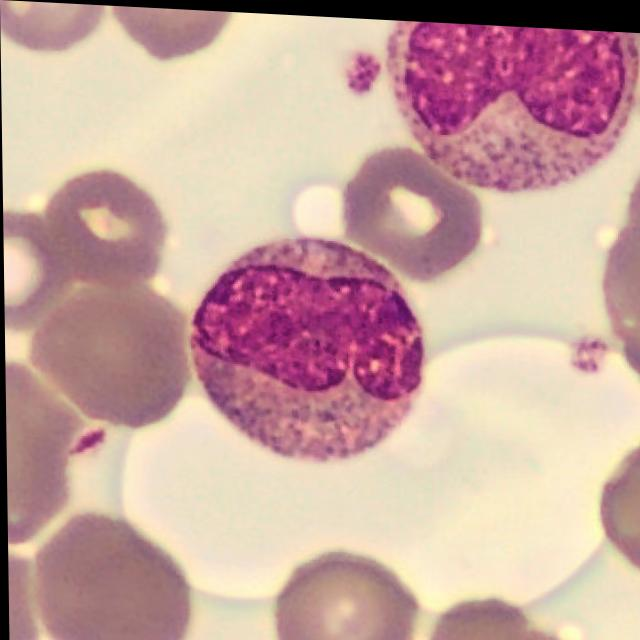Metamielocito: (190, 230, 429, 461)
